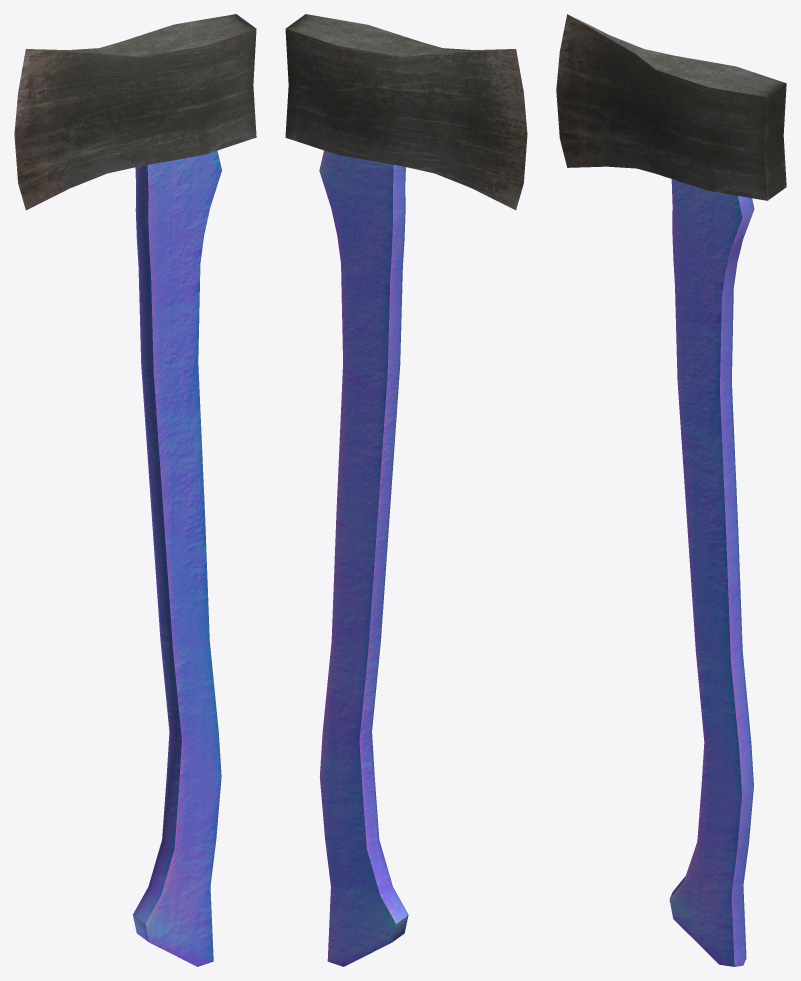
Rendered from mayaa.dae.
3 views of the same model, side by side, from view 1: azimuth 30°, elevation 25°; view 2: azimuth 150°, elevation 25°; view 3: azimuth 330°, elevation 25° (orthographic). The views are drawn at different scales.
Parts seen in each view (by area): view 1: Handle, FireAxe; view 2: Handle, FireAxe; view 3: Handle, FireAxe.
Part boxes in pixels (left/top/right/bottom): Handle: left=133, top=150, right=221, bottom=966; FireAxe: left=14, top=14, right=256, bottom=210; Handle: left=319, top=150, right=408, bottom=966; FireAxe: left=285, top=14, right=527, bottom=210; Handle: left=669, top=179, right=754, bottom=966; FireAxe: left=556, top=14, right=786, bottom=200.
Bounding box in the file's own units: 34.18 × 7.5 × 134.
2 materials, 2 textured.
